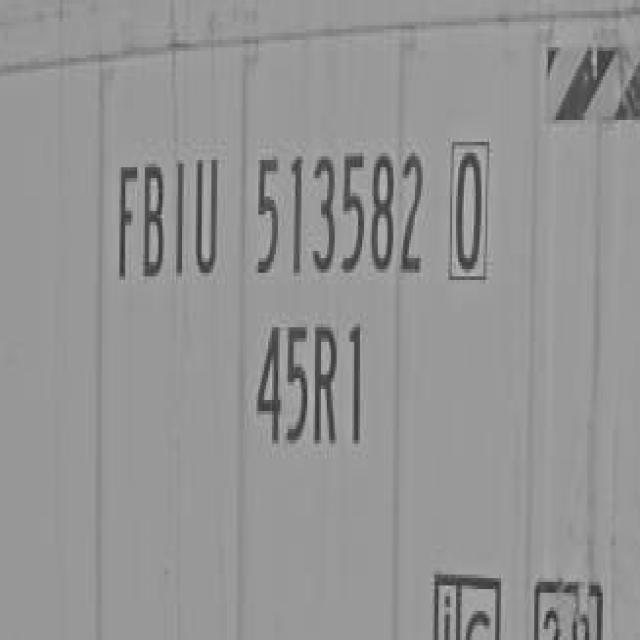dv: (446, 130, 498, 290)
owner: (112, 144, 230, 299)
serial: (243, 138, 430, 288)
size: (253, 313, 366, 460)
